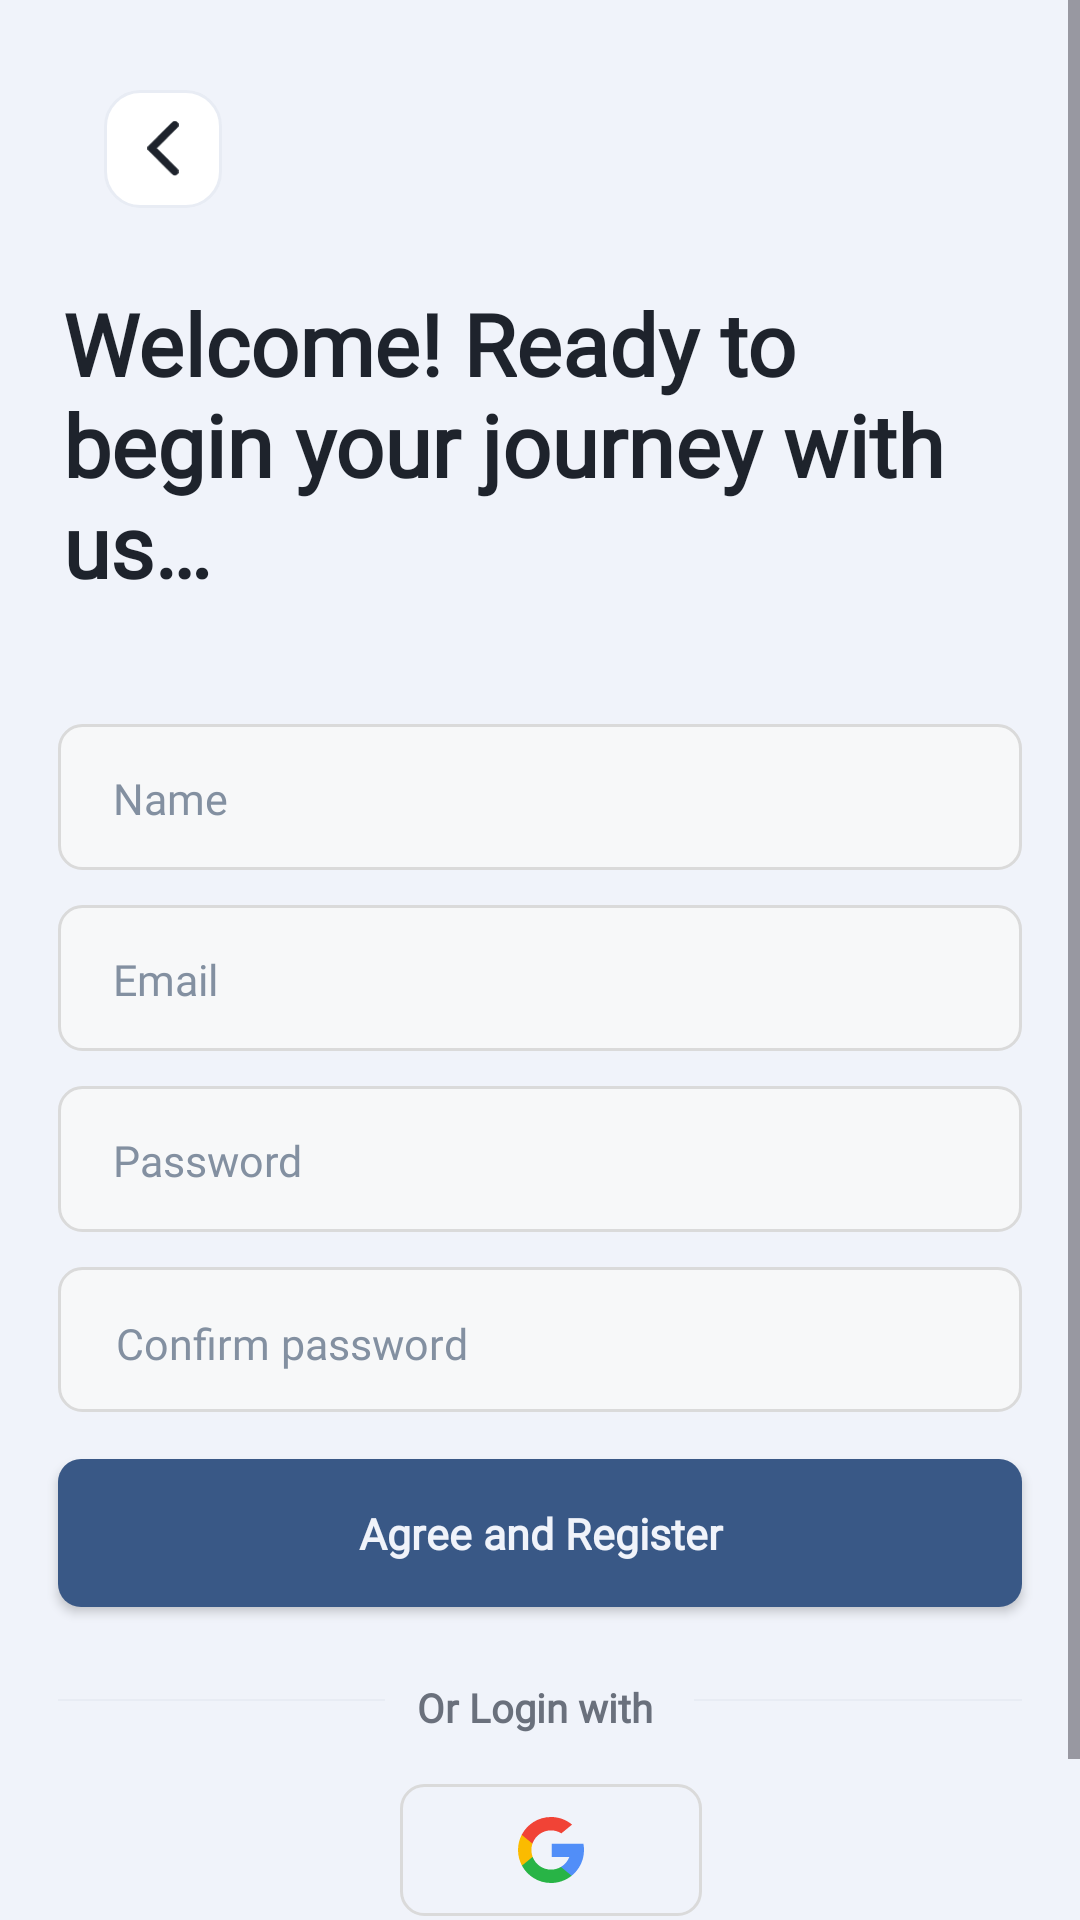

Icons on this 1080px x 1920px Android screen, each with its box as (x1, y1, x2, y2):
arrowleft: (107, 93, 219, 205)
